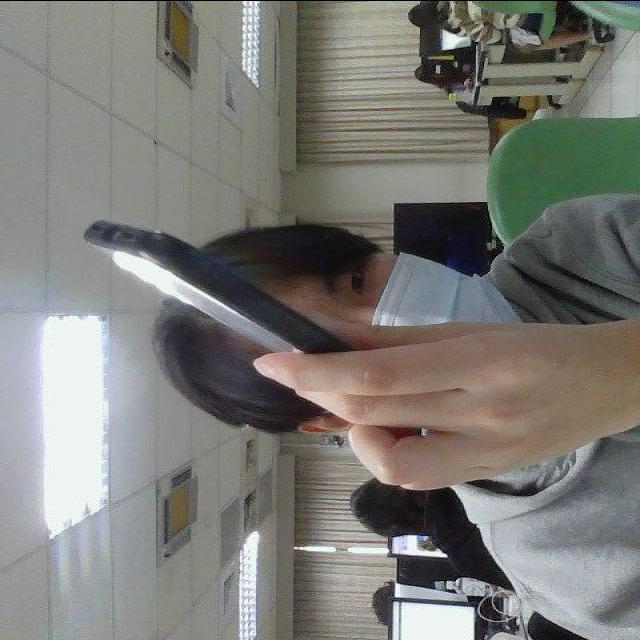ph: (63, 185, 409, 408)
